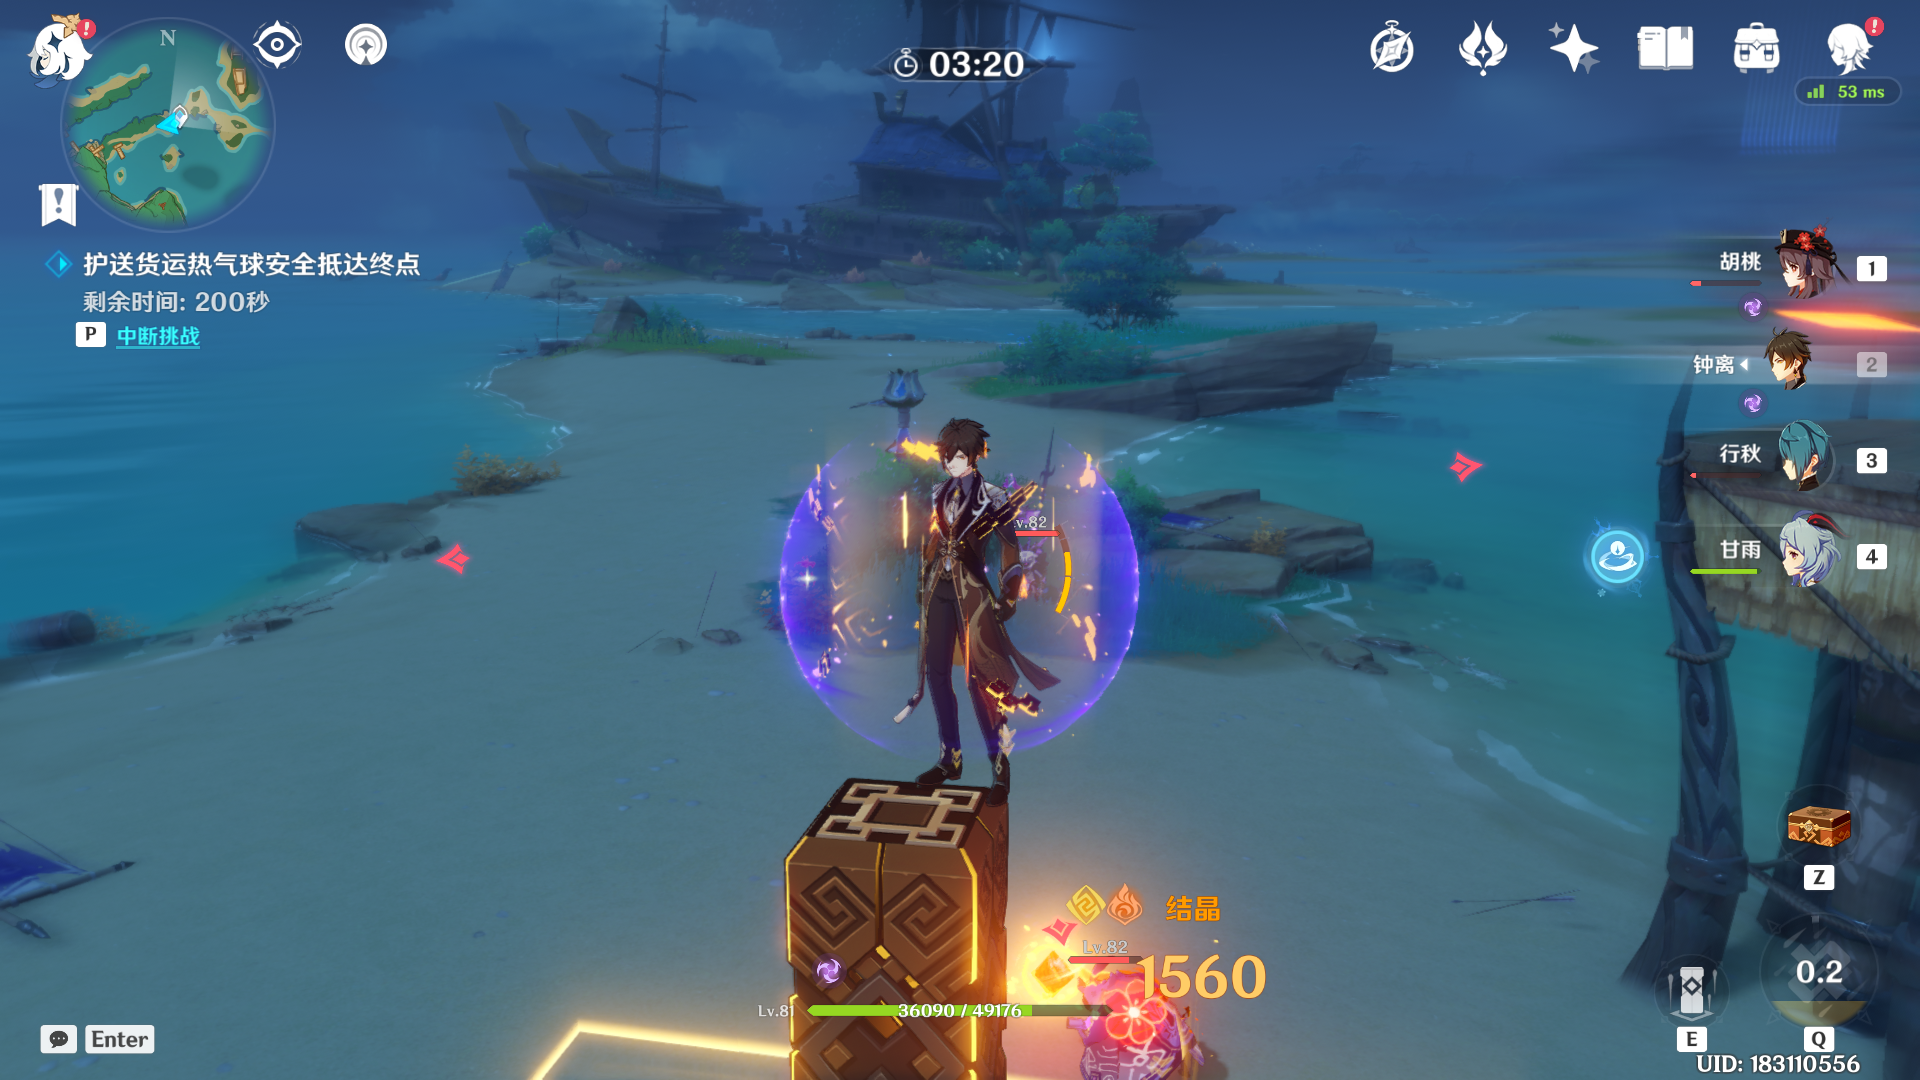character: (819, 373, 1101, 853)
